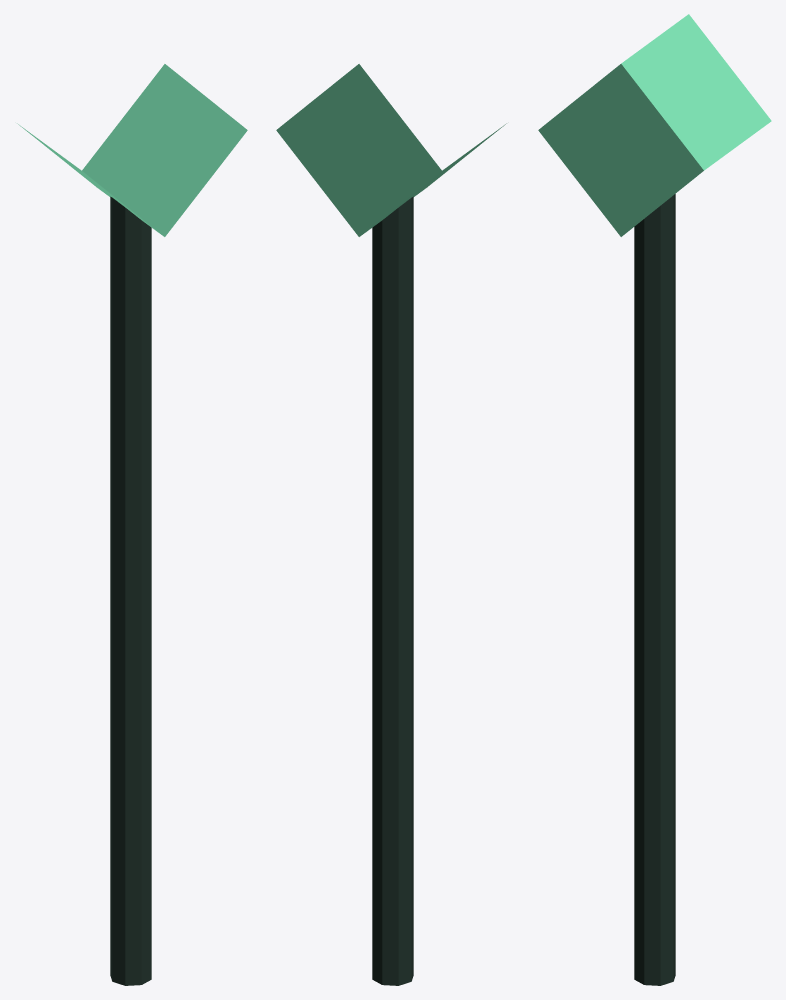
File: death-prophet.glb
3 views of the same model, side by side, from view 1: azimuth 30°, elevation 25°; view 2: azimuth 150°, elevation 25°; view 3: azimuth 330°, elevation 25° (orthographic).
Visible parts, largest first — view 1: death-prophet-shaft, death-prophet-head-gem; view 2: death-prophet-shaft, death-prophet-head-gem; view 3: death-prophet-shaft, death-prophet-head-gem.
Boxes of the visible parts, x1=… form: death-prophet-shaft: x1=110, y1=196, x2=151, y2=985; death-prophet-head-gem: x1=17, y1=64, x2=247, y2=236; death-prophet-shaft: x1=372, y1=196, x2=413, y2=985; death-prophet-head-gem: x1=276, y1=64, x2=506, y2=236; death-prophet-shaft: x1=634, y1=194, x2=675, y2=985; death-prophet-head-gem: x1=538, y1=14, x2=771, y2=236.
Size of the model in its own units: 0.3111 by 1.68 by 0.22.
